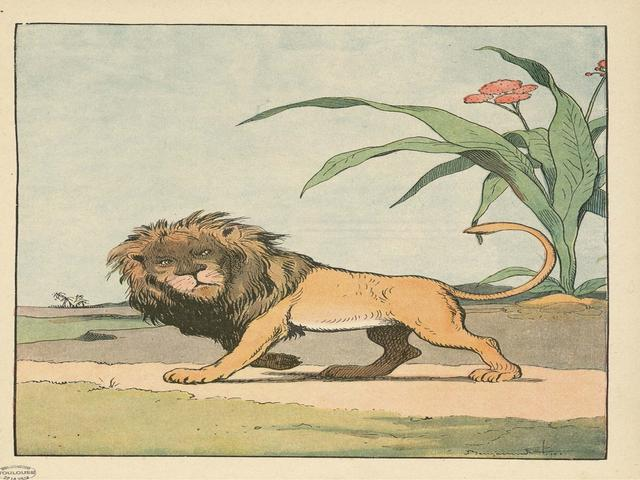lion: (82, 177, 608, 419)
